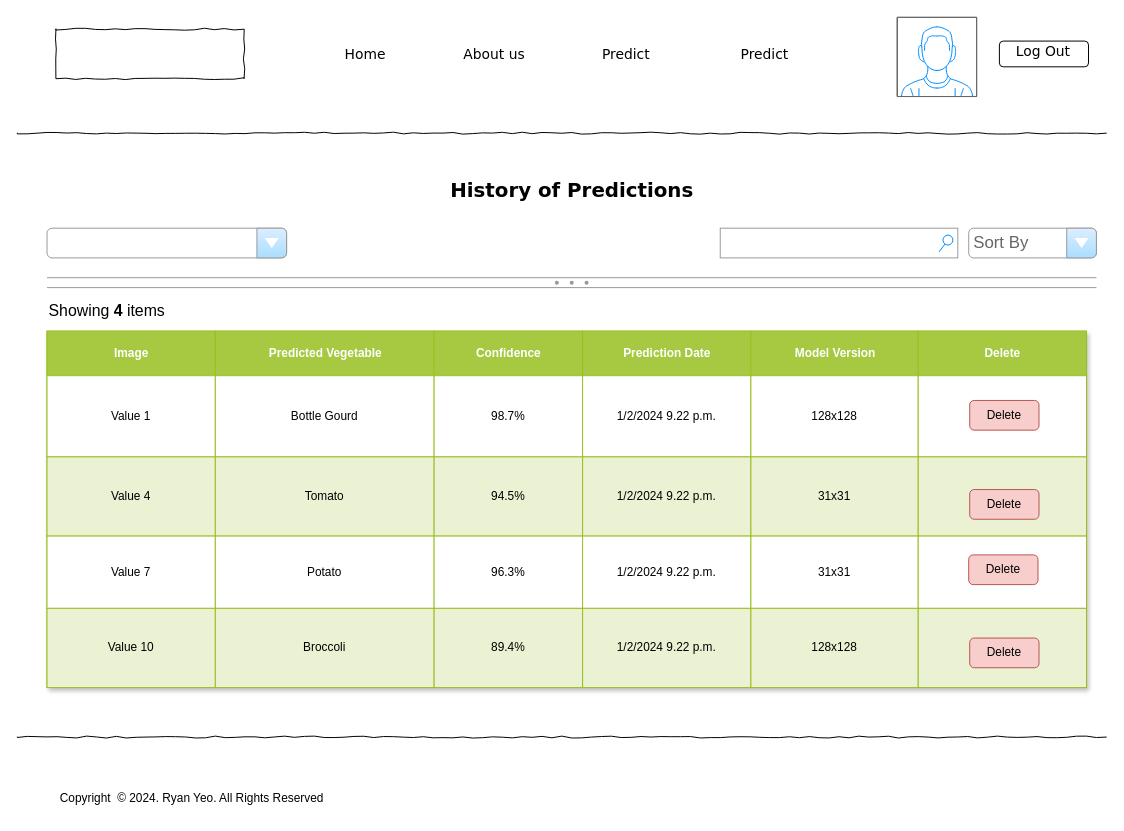
Some shapes in this 1124 by 831 pixel diagram are drawn without their labels. Here are the shapes that lost their labels. From the top down, the centre of each, then its label:
the point at 149,53: LOGO
the point at 166,242: Filter By Vegetable
the point at 838,242: Search
